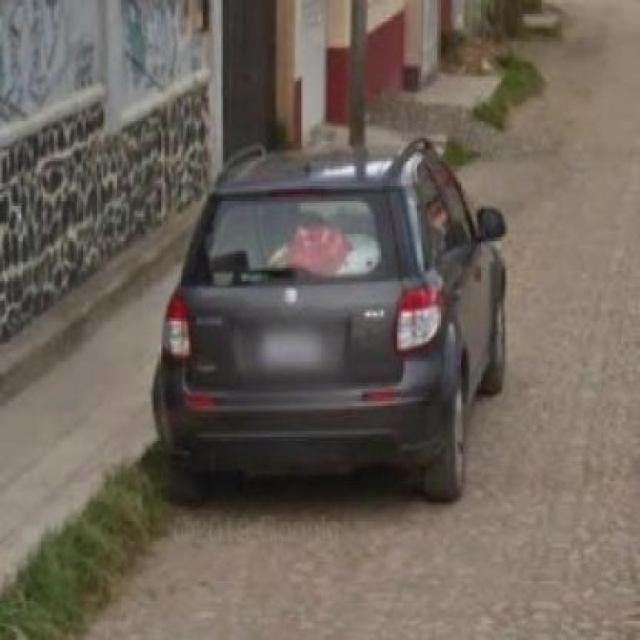car: (145, 132, 518, 516)
